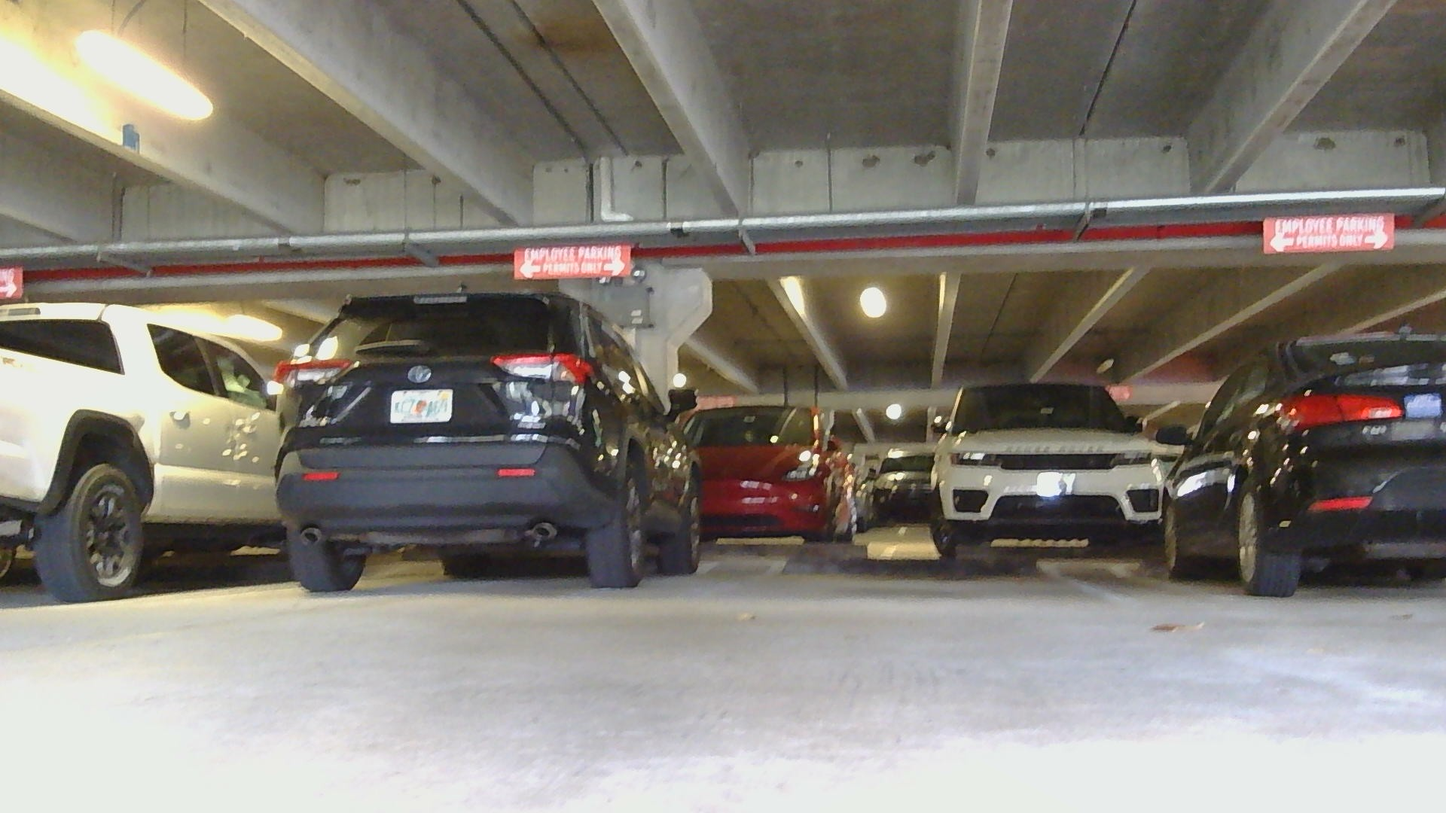empty_spot: (711, 546, 1189, 613)
occupied_spot: (277, 285, 719, 611), (1156, 327, 1445, 608)
